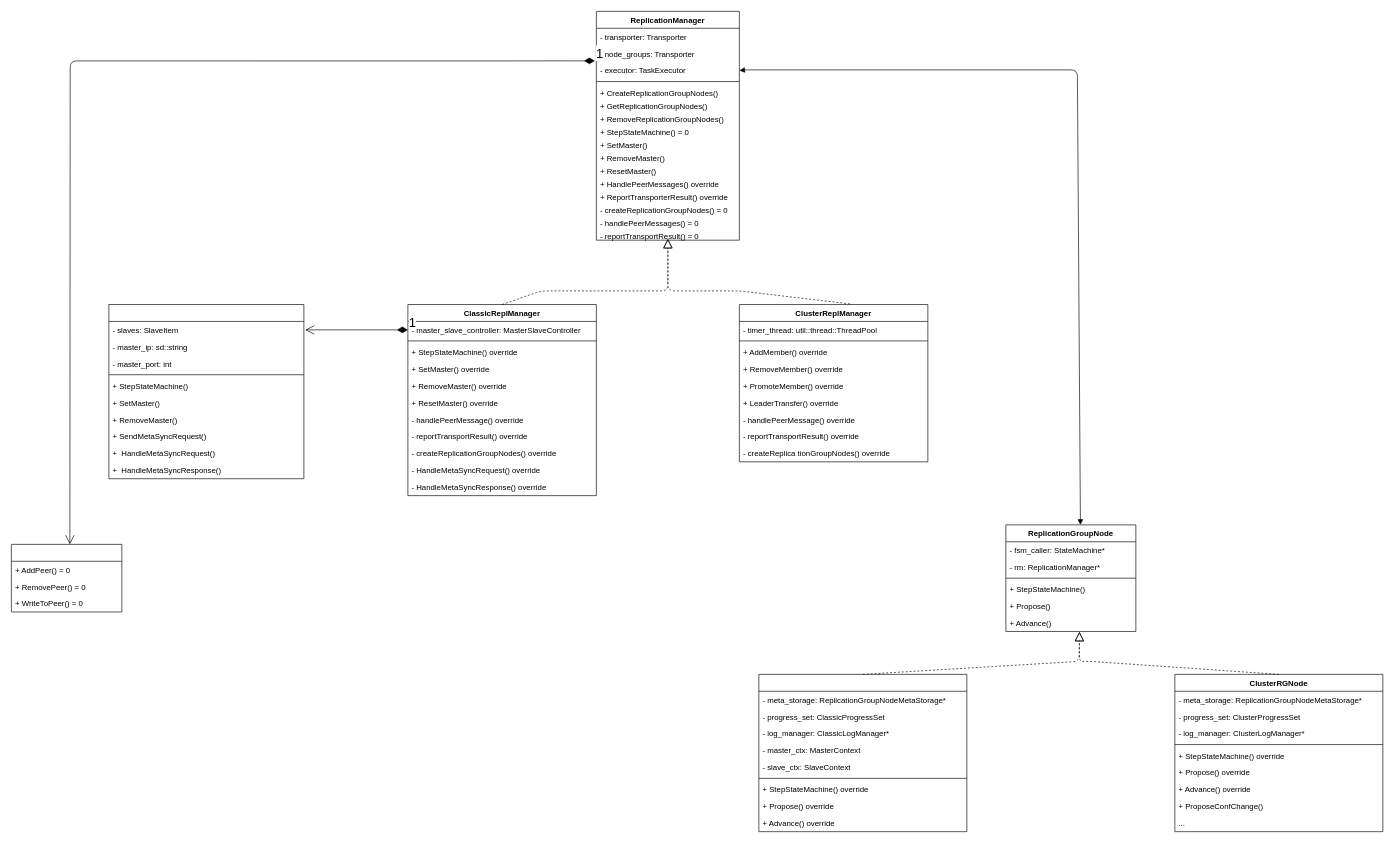
Image size: 1394x845. Some labels were removed from this diagram. Here are the shapes that lost their labels. From the top down, the box of each, then its label:
(108, 304, 304, 479): MasterSlaveController
(11, 544, 122, 612): Transporter
(758, 674, 967, 832): ClassicRGNode
